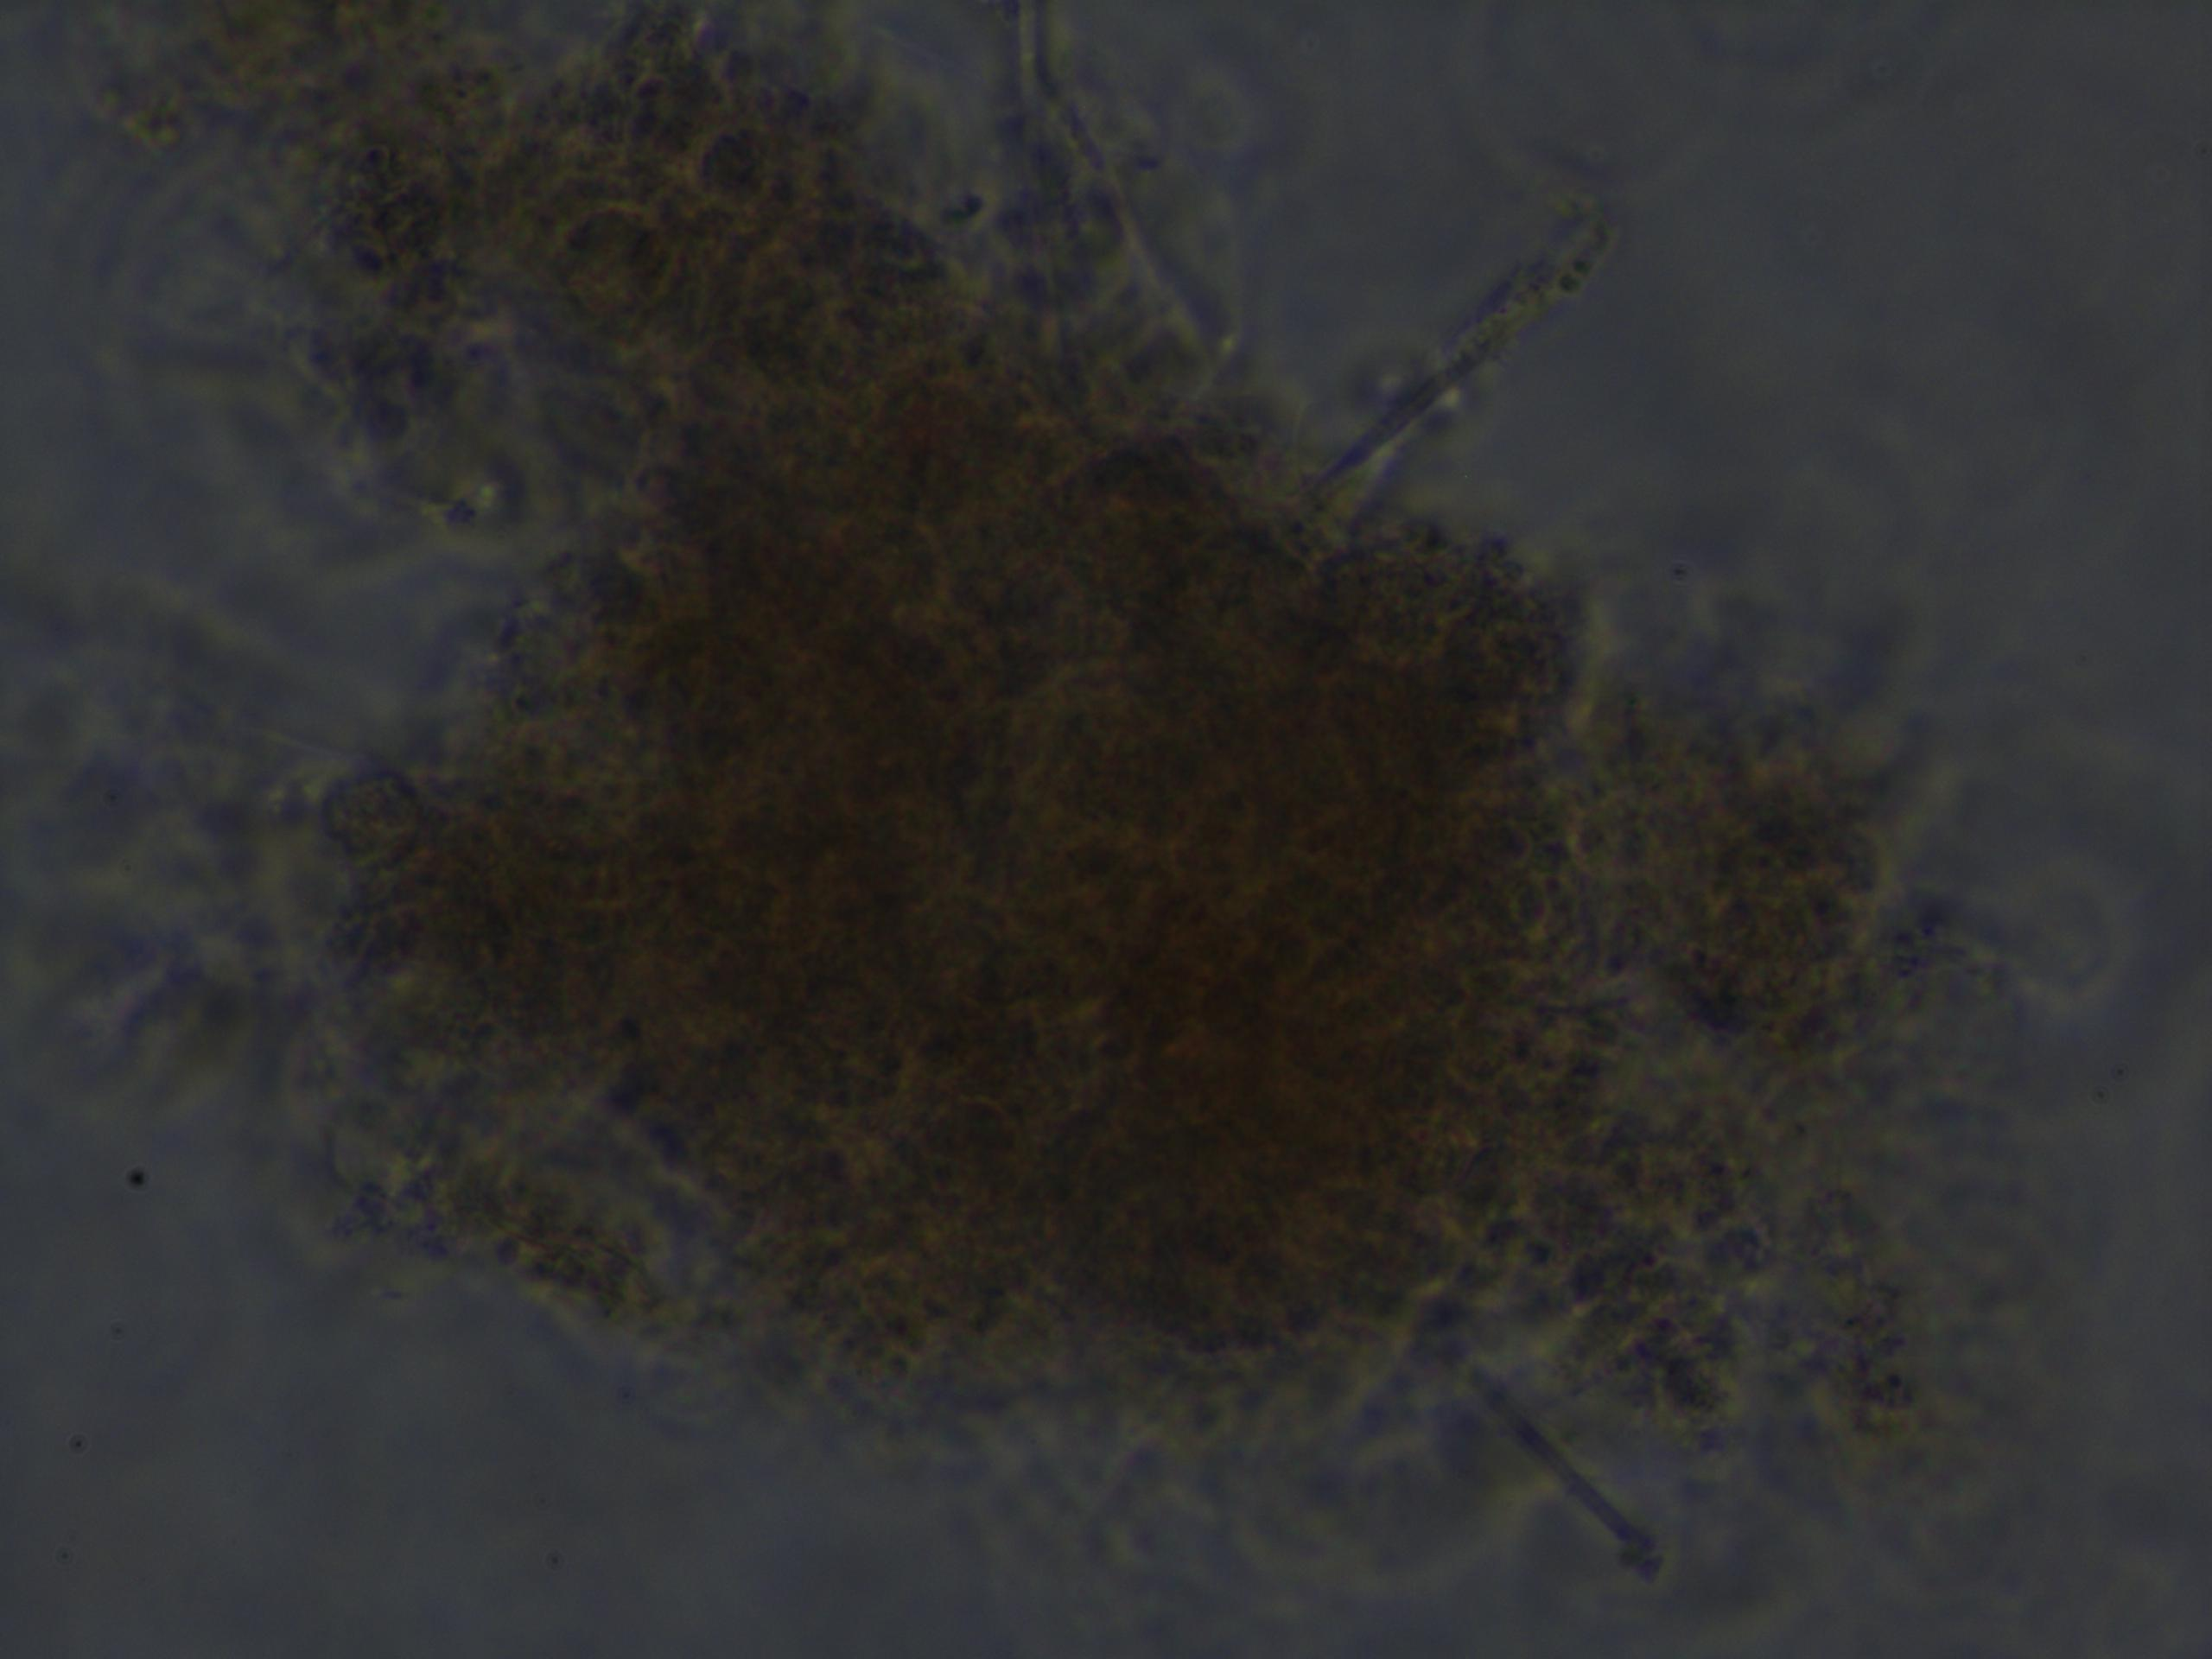filament: (1338, 195, 1613, 518), (993, 12, 1249, 350), (1437, 1364, 1703, 1584)
